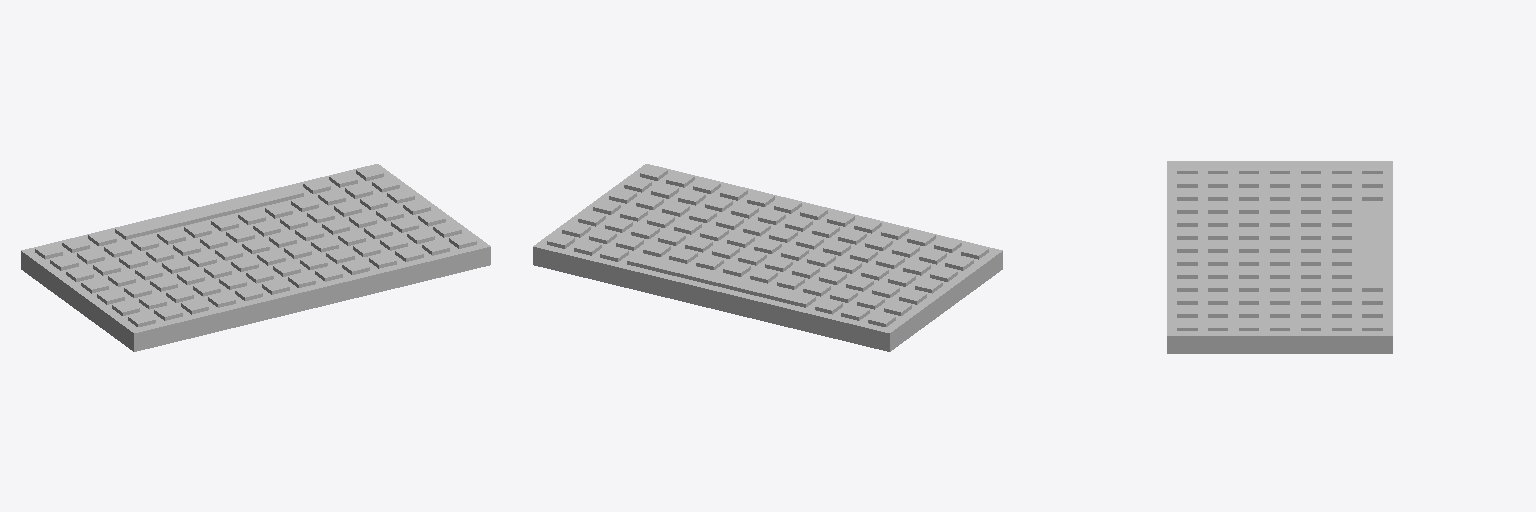
Rendered from keyboard.obj.
The picture shows the model from 3 angles: view 1: azimuth 30°, elevation 25°; view 2: azimuth 150°, elevation 25°; view 3: azimuth 270°, elevation 25°; orthographic projection.
Parts seen in each view (by area): view 1: Keyboard; view 2: Keyboard; view 3: Keyboard.
Part boxes in pixels (x1,y1,x2,y2): Keyboard: (21, 164, 490, 351); Keyboard: (533, 164, 1002, 351); Keyboard: (1167, 161, 1392, 353).
Size of the model in its own units: 2 by 0.12 by 1.1.